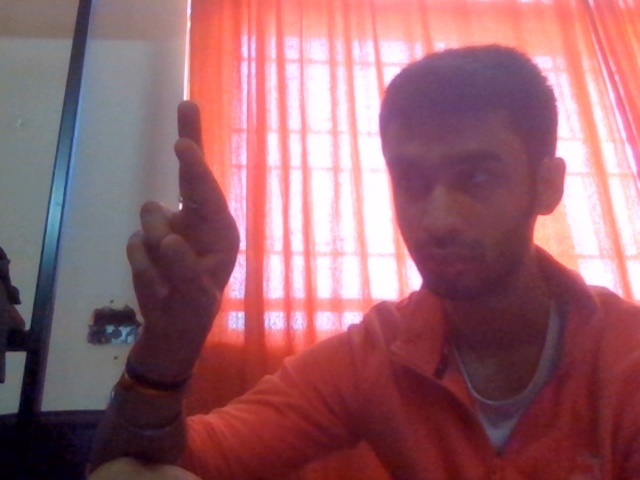R: (104, 78, 274, 386)
